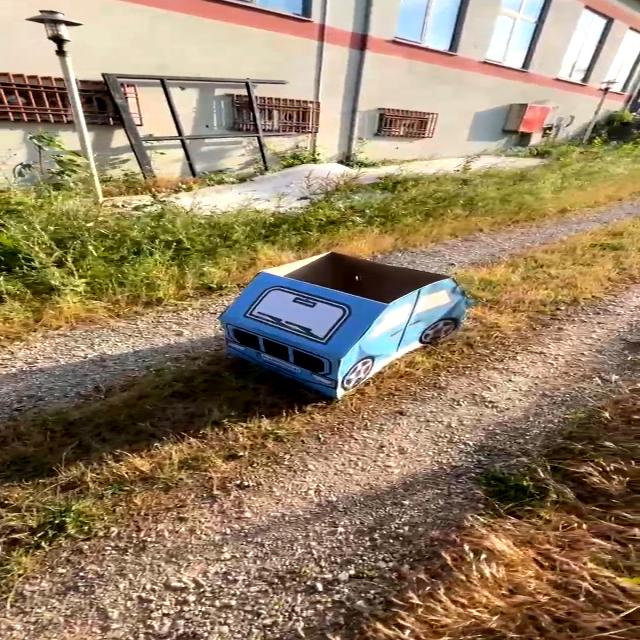blue_car: (130, 226, 495, 421)
